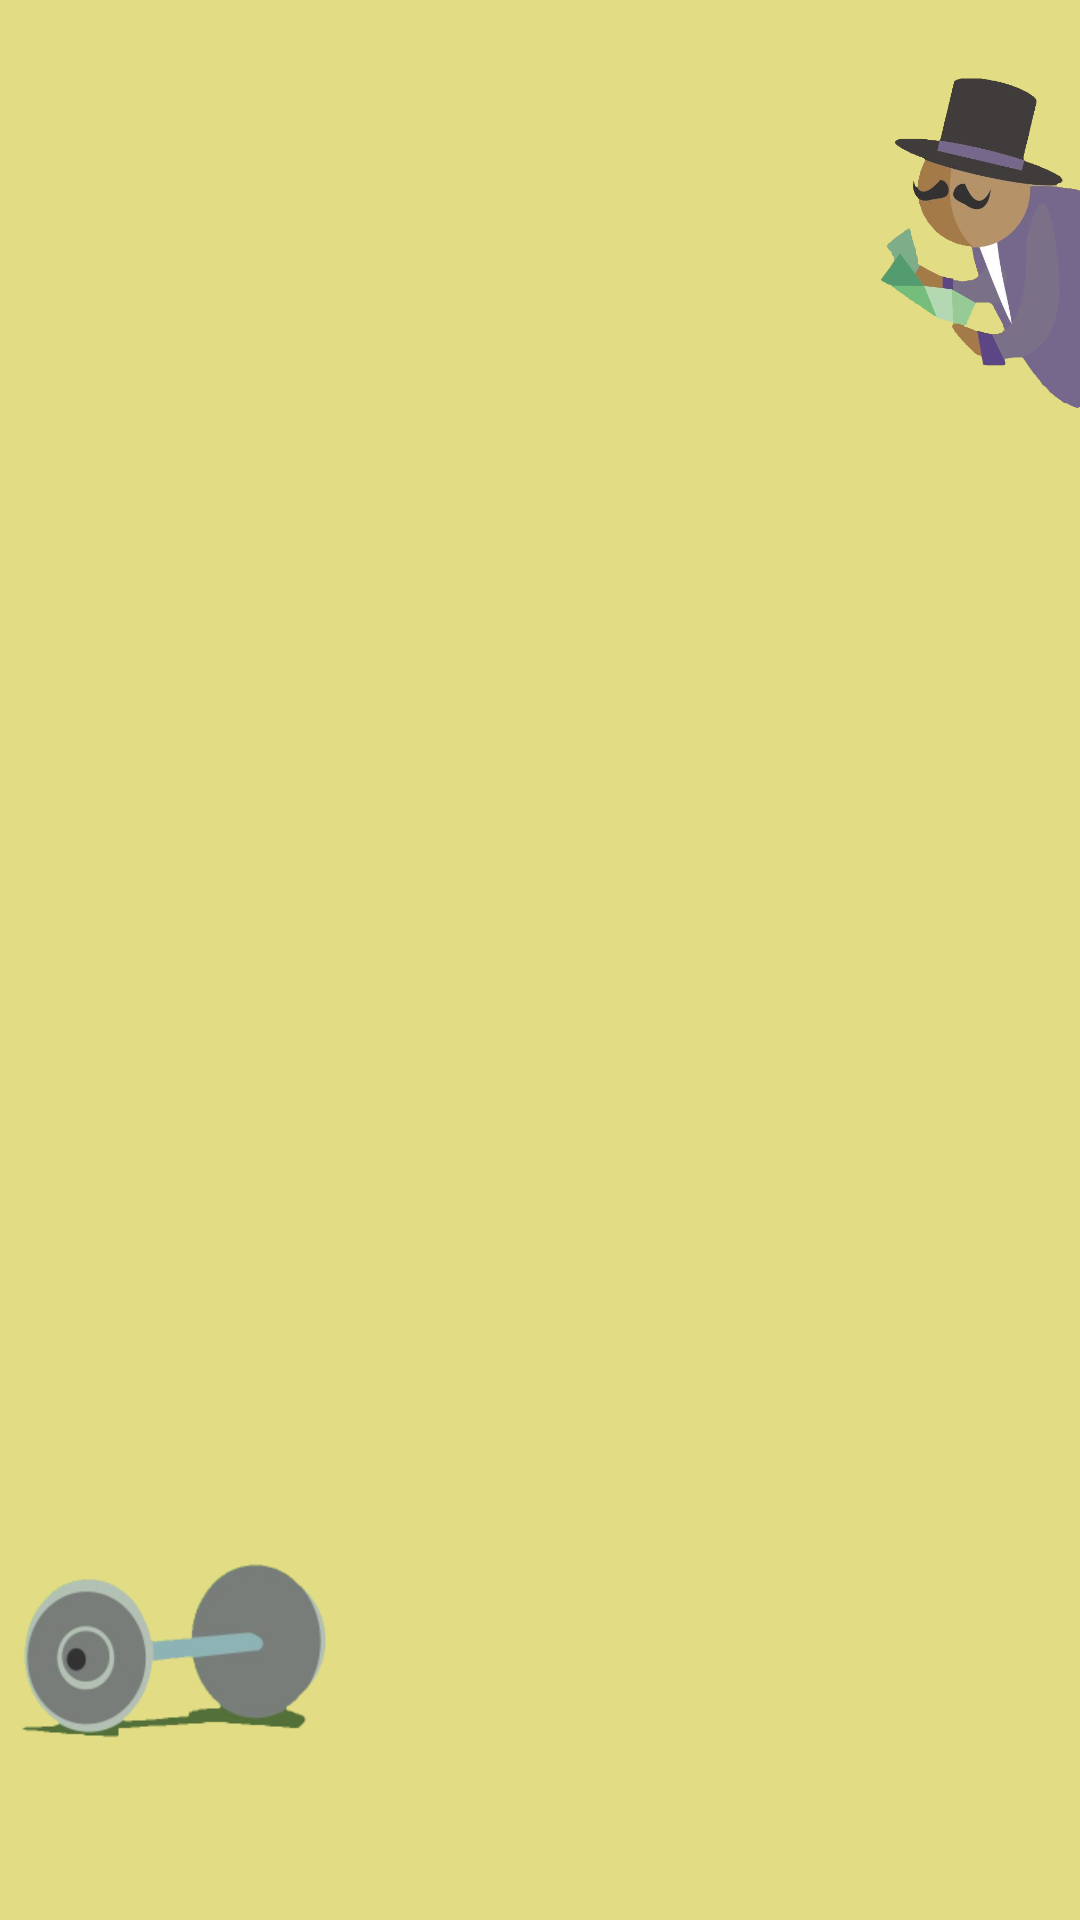

Named icons in this screenshot (1080 × 1920) and their centers, [x,y]:
millionaire person: [980,243]
weight: [174,1650]
